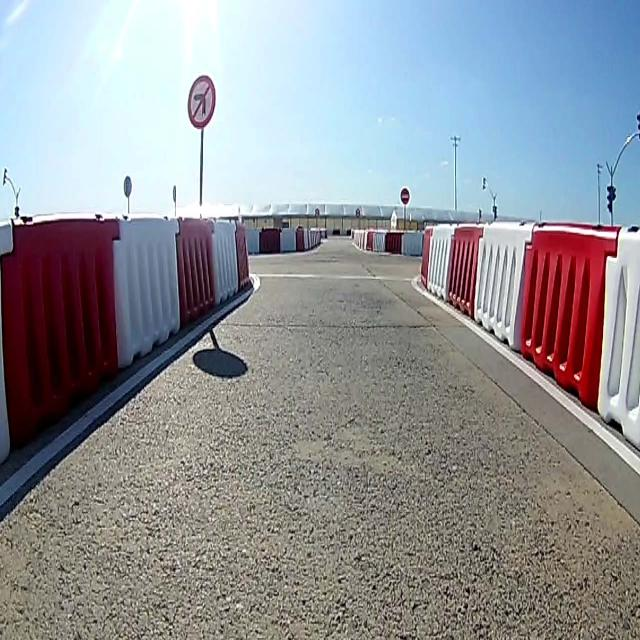girisyok: (400, 185, 410, 207)
soladonulmez: (186, 76, 217, 133)
